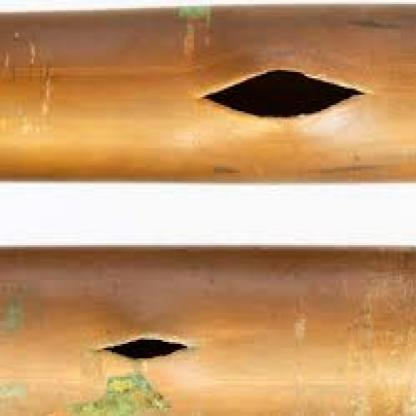burst: (185, 58, 383, 136), (96, 330, 201, 369)
